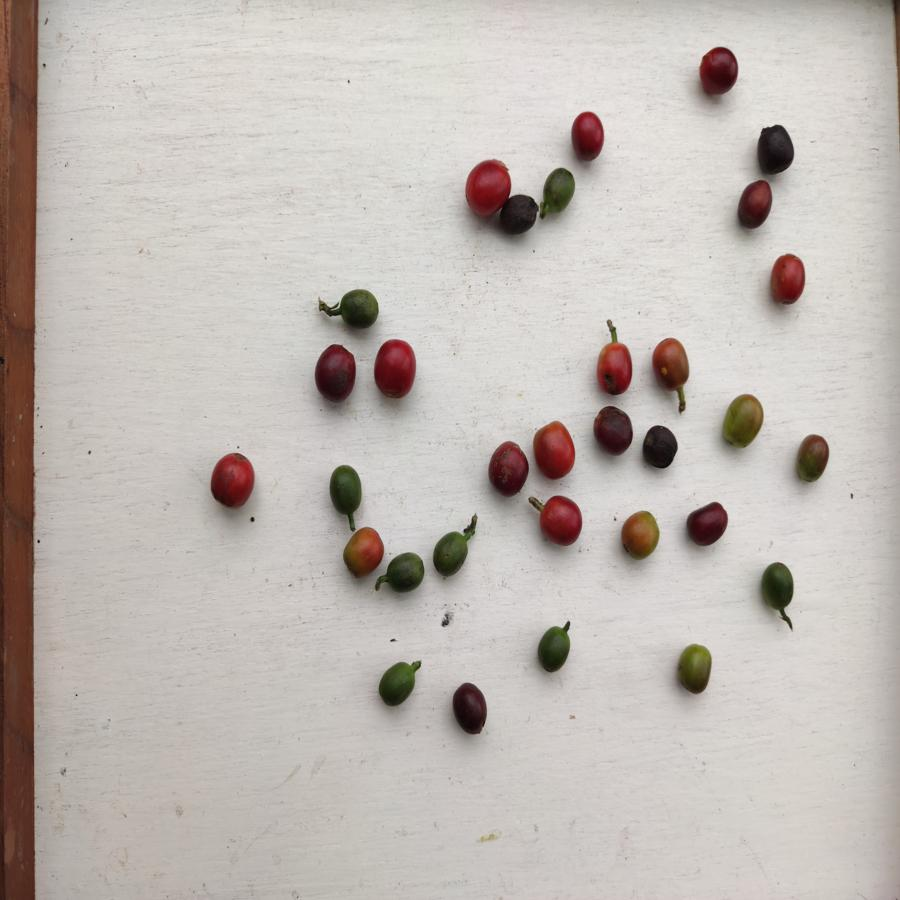Inmaduro: (326, 464, 366, 516), (533, 624, 573, 676), (376, 661, 420, 706), (761, 563, 796, 616), (385, 551, 425, 595), (541, 169, 578, 215), (342, 291, 382, 331), (434, 530, 468, 577)
Maduro: (372, 339, 419, 401), (532, 421, 579, 480), (209, 453, 255, 513), (537, 494, 585, 549), (464, 160, 503, 216), (596, 342, 633, 396), (769, 253, 807, 305), (571, 111, 606, 163)
Pinton: (648, 337, 693, 390), (724, 393, 764, 449), (344, 524, 384, 576), (677, 641, 714, 697), (619, 511, 661, 558), (795, 435, 830, 485)
Sobremaduro: (311, 344, 359, 402), (488, 442, 531, 498), (592, 402, 633, 455), (696, 49, 741, 97), (754, 125, 798, 174), (450, 681, 490, 733), (637, 424, 684, 468), (737, 180, 777, 230), (688, 503, 732, 546), (500, 192, 543, 230)
